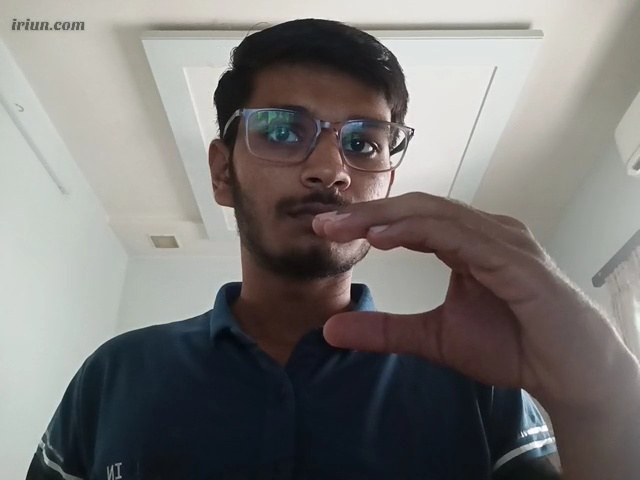No: (306, 184, 640, 414)
